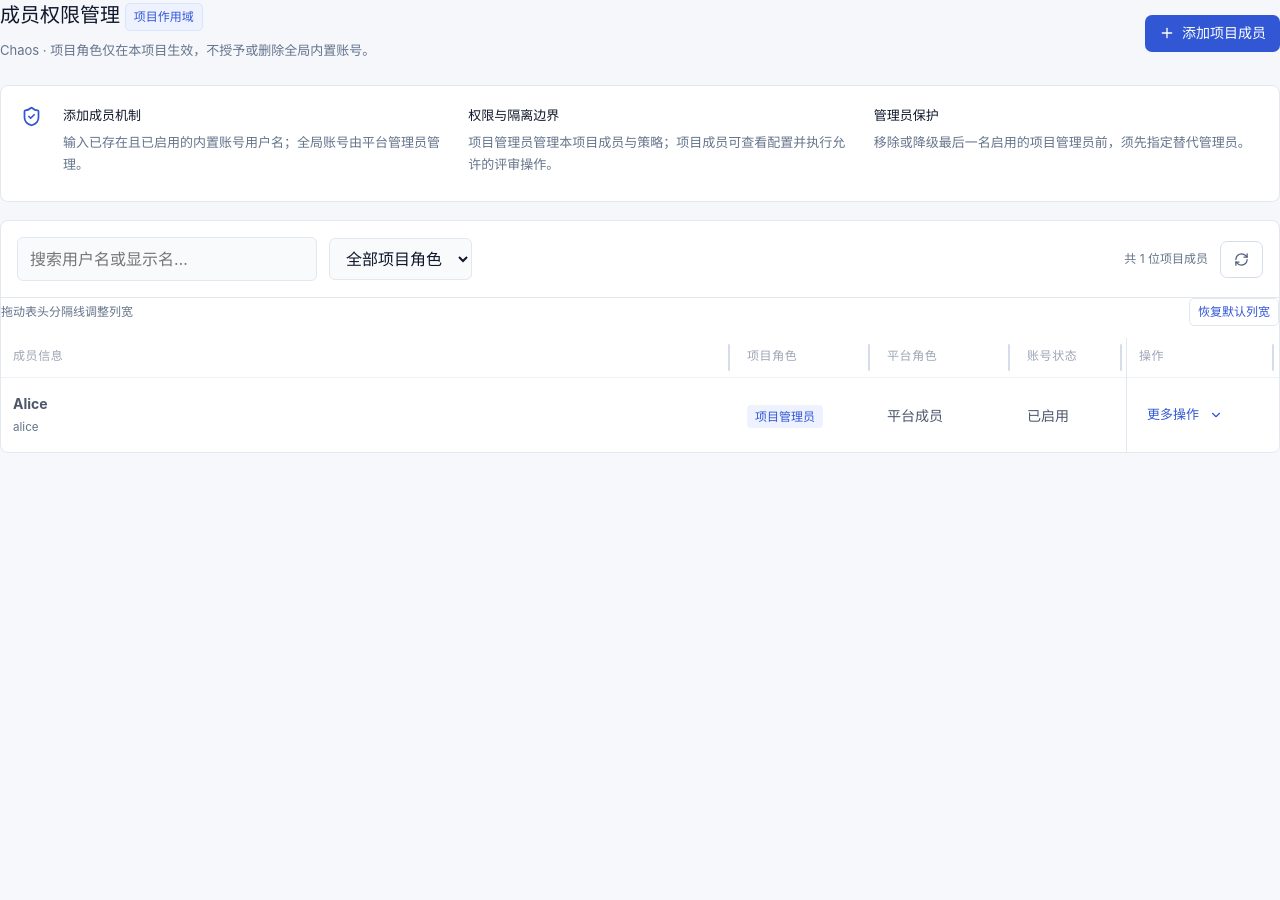
keeps rejected removals visible without pretending the member was removed
Check: the text "Alice" is shown, box left=13, top=395, right=48, bottom=412
Click the button with aria-label "Alice 的更多操作" at (1185, 415), box left=1139, top=397, right=1231, bottom=433
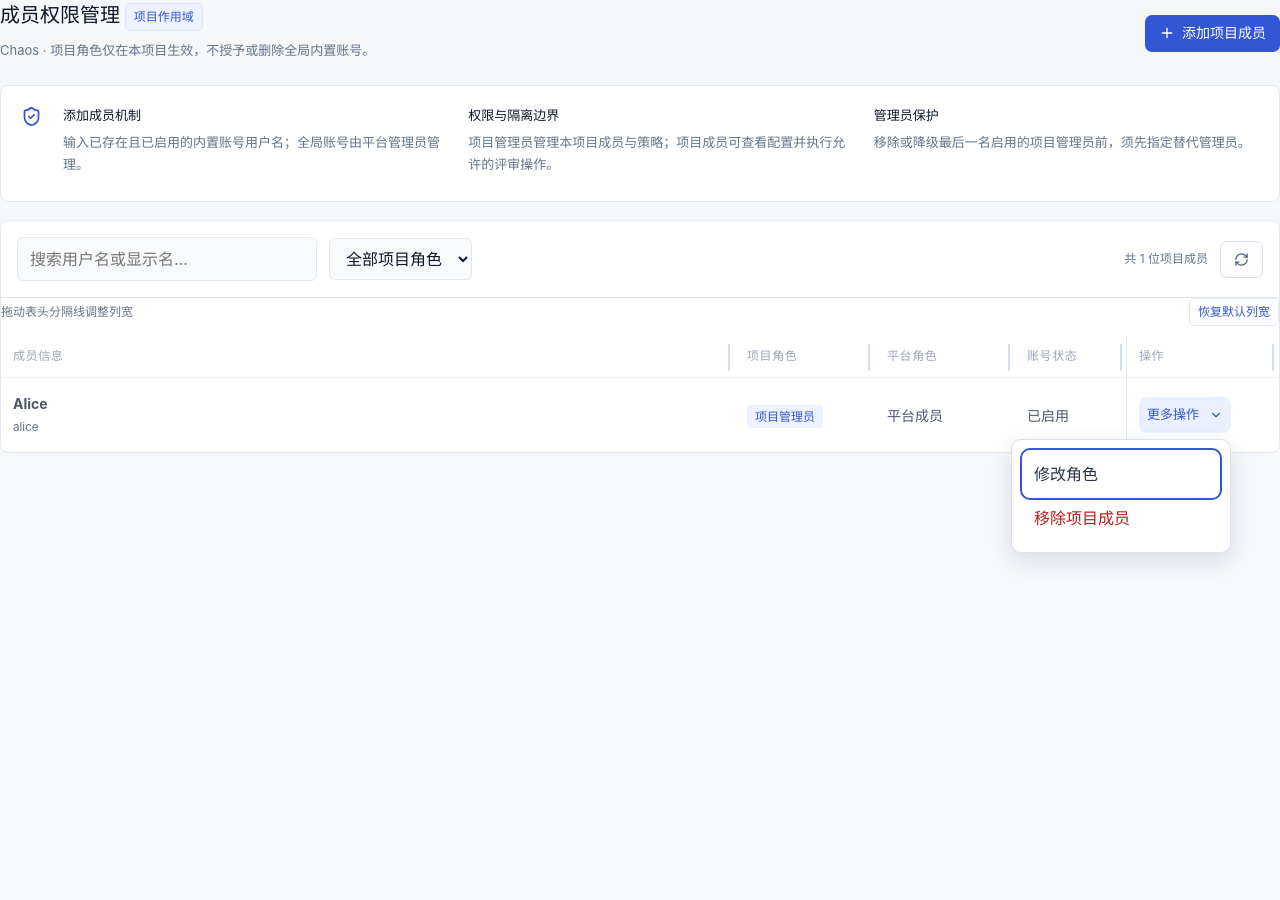
Click the button with aria-label "移除 Alice" at (1121, 518), box left=1024, top=496, right=1218, bottom=540
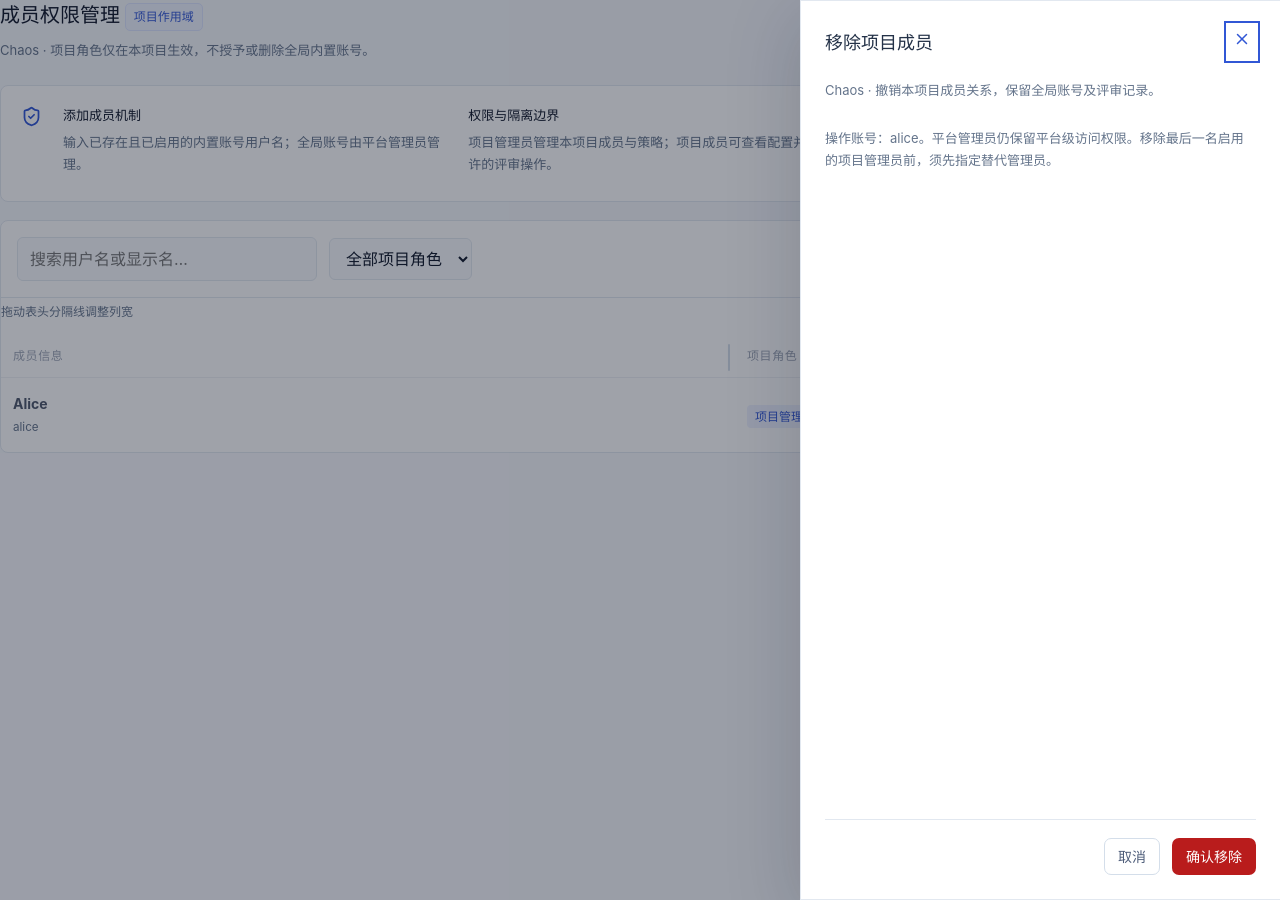
Click the button "确认移除" at (1214, 856), box left=1172, top=838, right=1256, bottom=875
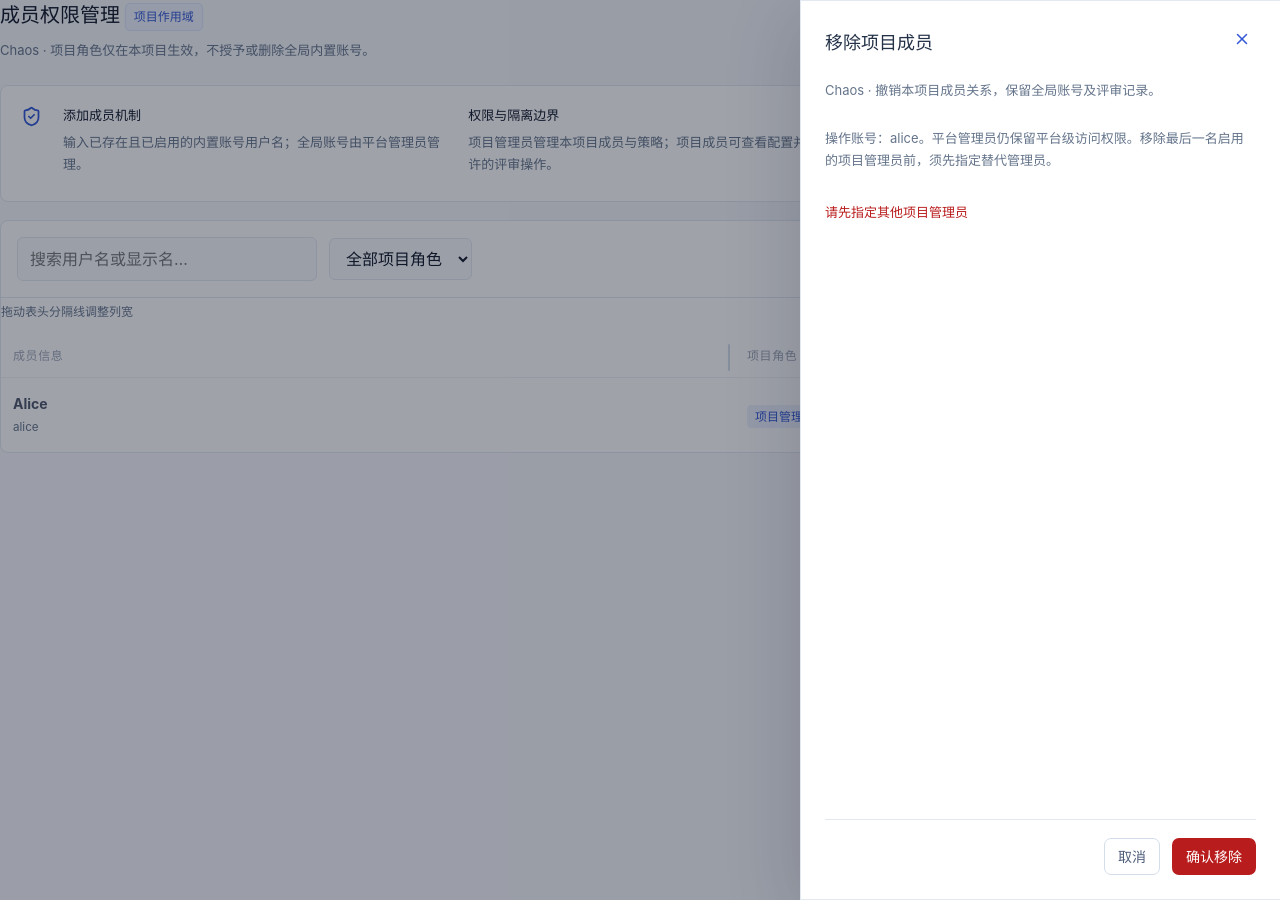
Check: the text "Alice" is shown, box left=13, top=395, right=48, bottom=412
Check: the message reads "请先指定其他项目管理员", box left=825, top=204, right=968, bottom=220
Press Escape
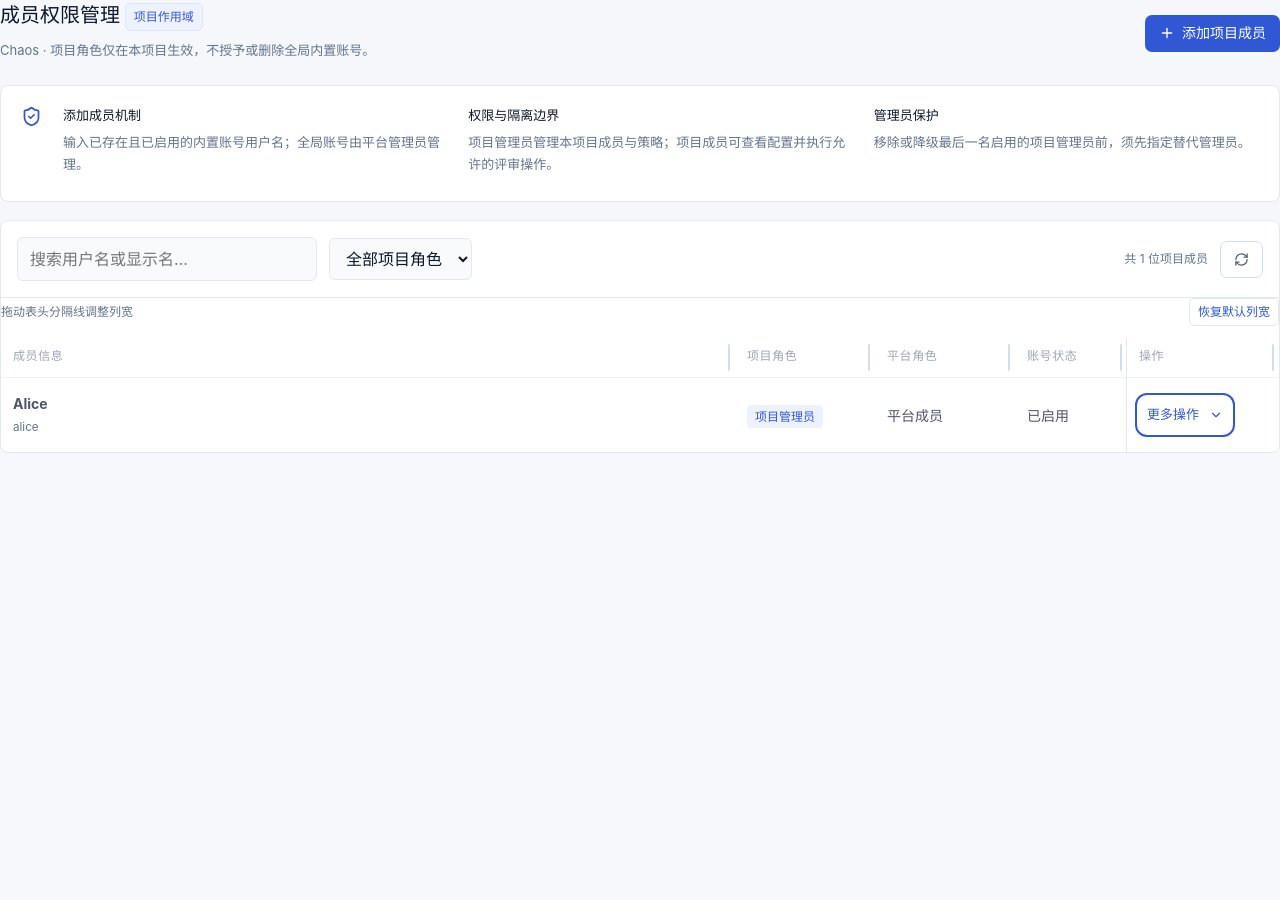
Check: the dialog is gone
